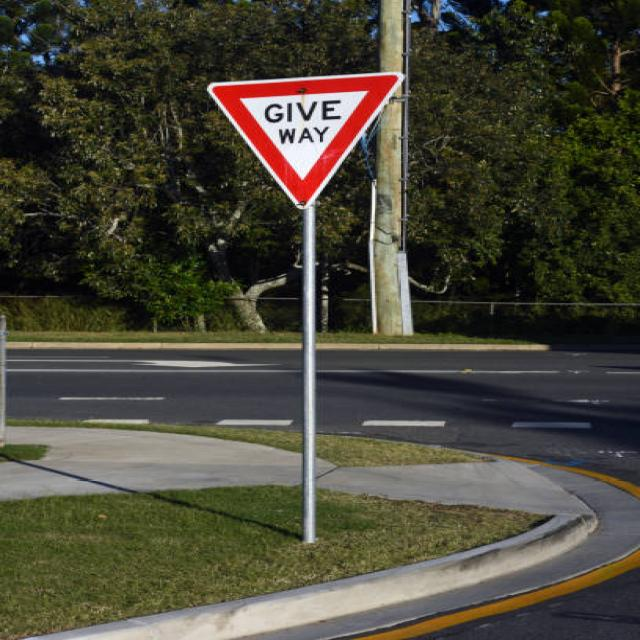give_way: (191, 69, 415, 211)
